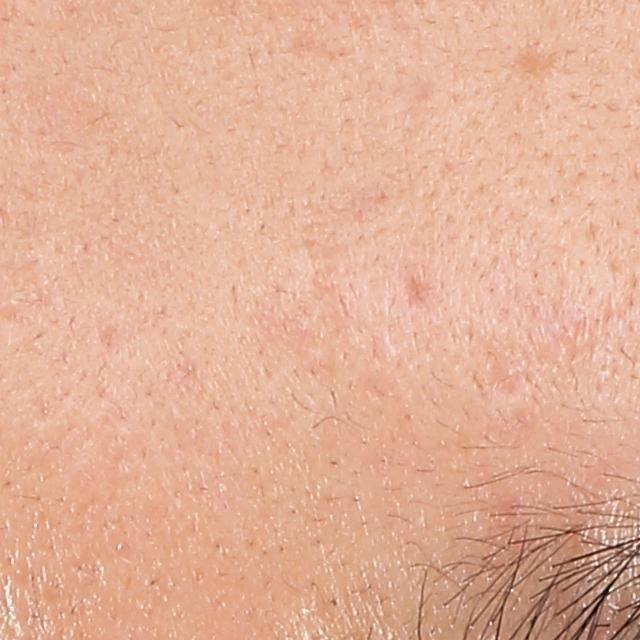atrophic_scar: (404, 269, 430, 307)
